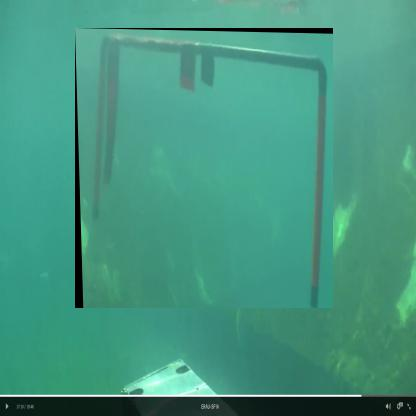gate: (76, 29, 335, 310)
